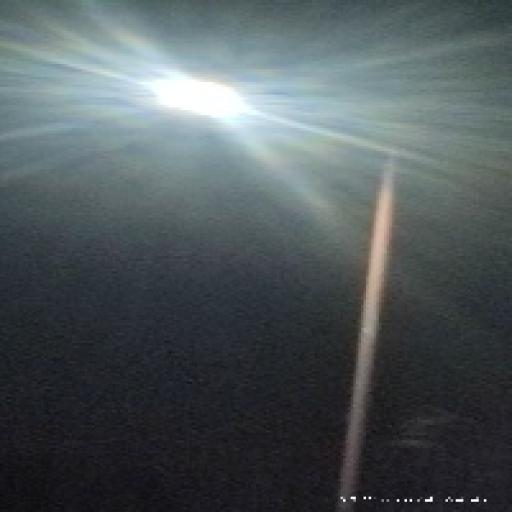Working: (130, 61, 257, 136)
